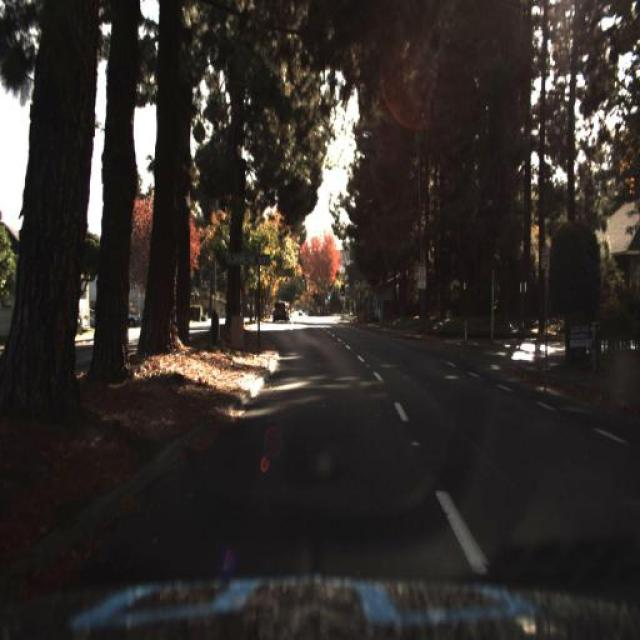car: (268, 297, 288, 324)
trafficLight-Green: (333, 280, 348, 300)
trafficLight-GreenLeft: (298, 268, 308, 294)
